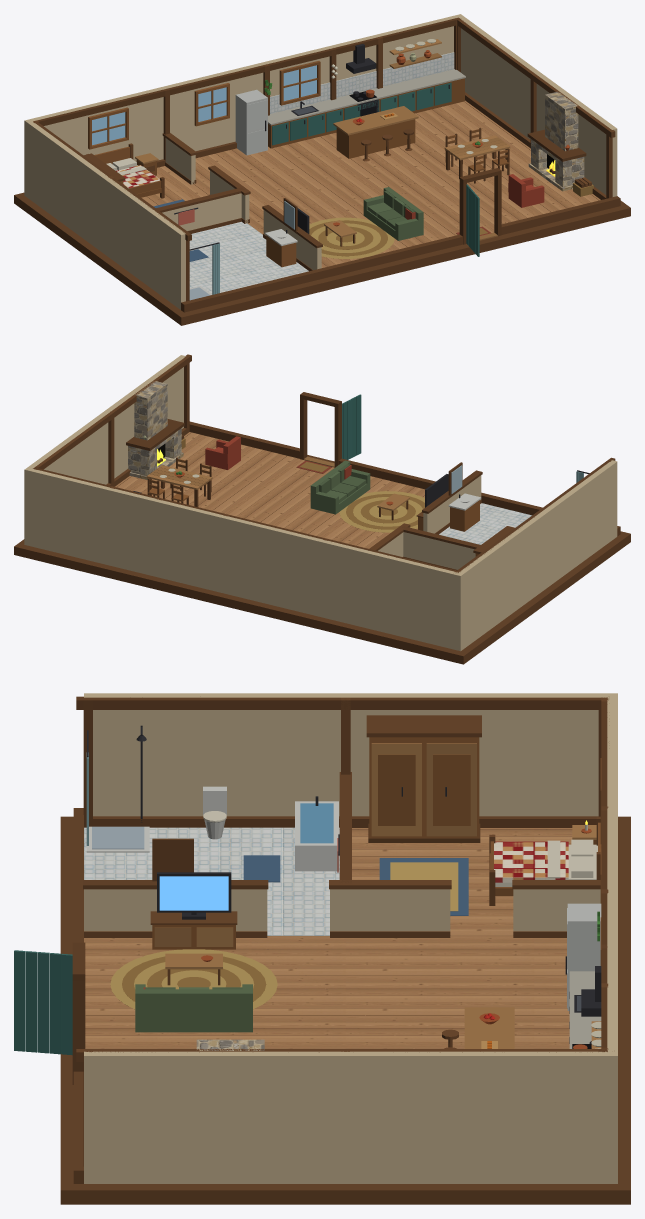
The model's file is casa_interior.glb.
The picture shows the model from 3 angles, top to bottom: view 1: azimuth 30°, elevation 25°; view 2: azimuth 150°, elevation 25°; view 3: azimuth 270°, elevation 25°; orthographic projection. The views are drawn at different scales.
Parts seen in each view (by area): view 1: SM_CasaInterior; view 2: SM_CasaInterior; view 3: SM_CasaInterior.
Part boxes in pixels (x1=…): SM_CasaInterior: x1=14, y1=14, x2=630, y2=325; SM_CasaInterior: x1=14, y1=354, x2=630, y2=664; SM_CasaInterior: x1=14, y1=693, x2=630, y2=1204.
Size of the model in its own units: 16.9 by 3.02 by 11.79.
8 materials, 4 textured.
